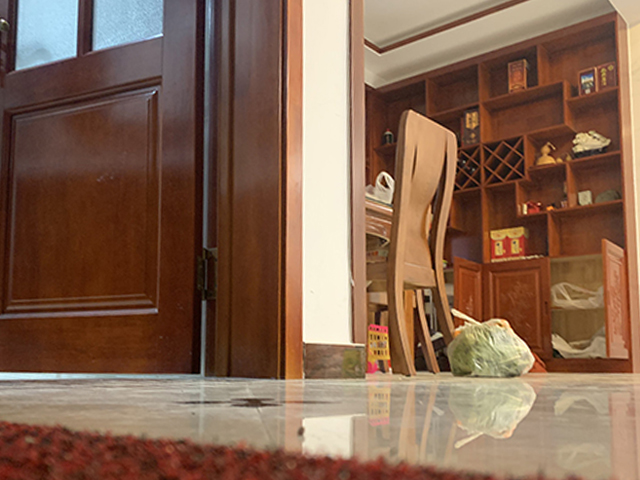cabinet: (474, 243, 640, 375)
carpet: (1, 421, 580, 480)
stool: (366, 109, 455, 377)
